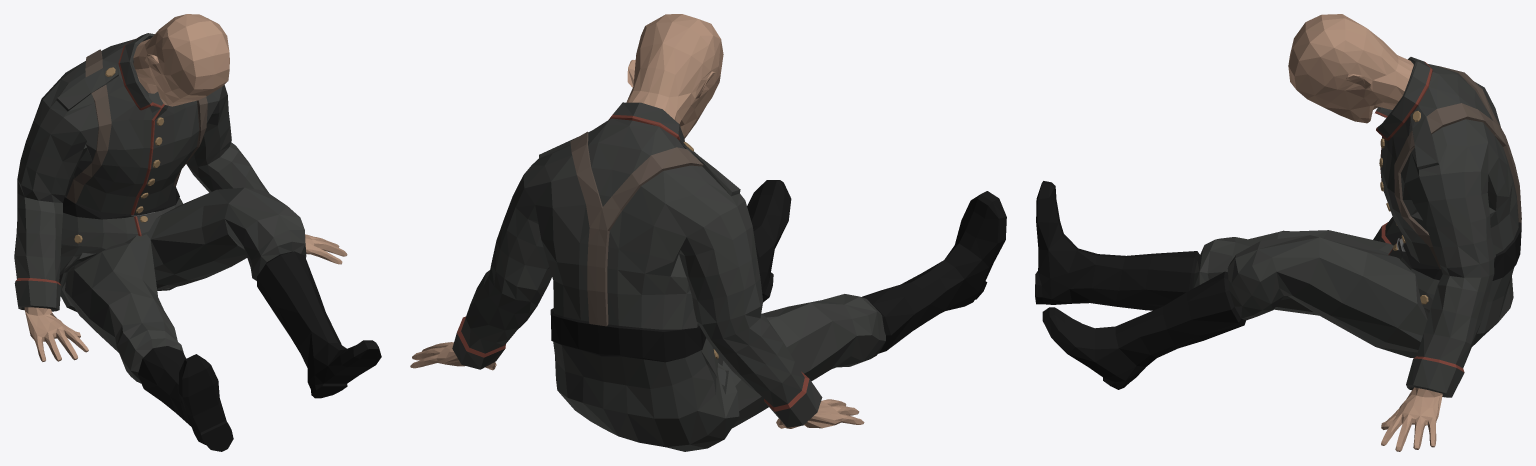
File: Cha_Soldier_Ger_Dead_02.fbx
3 views of the same model, side by side, from view 1: azimuth 30°, elevation 25°; view 2: azimuth 150°, elevation 25°; view 3: azimuth 270°, elevation 25° (orthographic). The views are drawn at different scales.
Visible parts, largest first — view 1: Cha_Soldier_Ger_Dead_02_LOD0; view 2: Cha_Soldier_Ger_Dead_02_LOD0; view 3: Cha_Soldier_Ger_Dead_02_LOD0.
Boxes of the visible parts, box(x1,y1,x2,y2) form: Cha_Soldier_Ger_Dead_02_LOD0: box(14, 14, 381, 451); Cha_Soldier_Ger_Dead_02_LOD0: box(410, 14, 1006, 451); Cha_Soldier_Ger_Dead_02_LOD0: box(1035, 14, 1521, 451).
Size of what is drawn, in the model's own units: 96.06 by 86.84 by 109.
